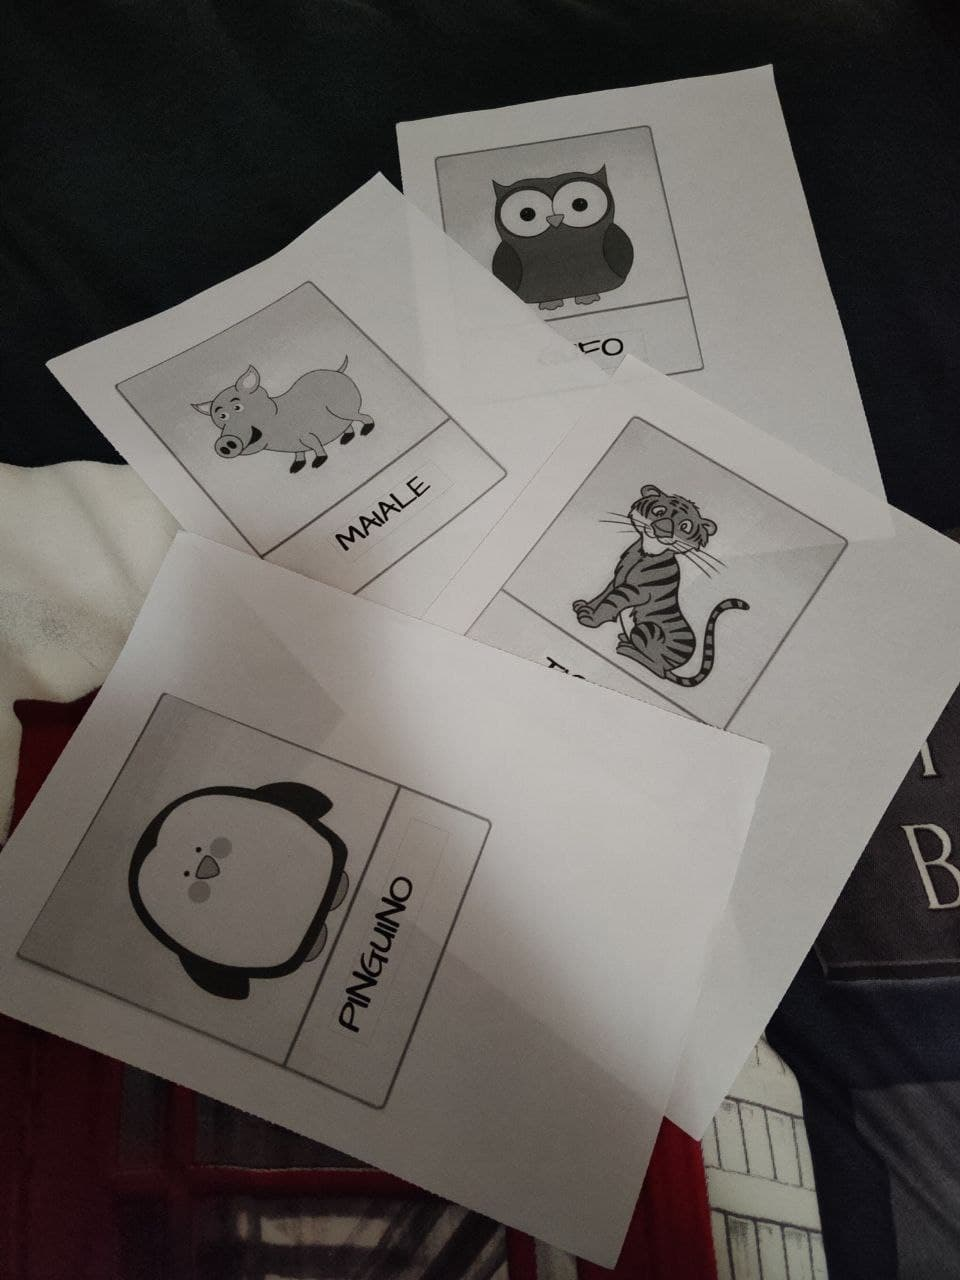gufo: (455, 157, 703, 377)
maiale: (184, 332, 459, 579)
pinguino: (101, 749, 465, 1055)
tigre: (559, 472, 760, 748)
